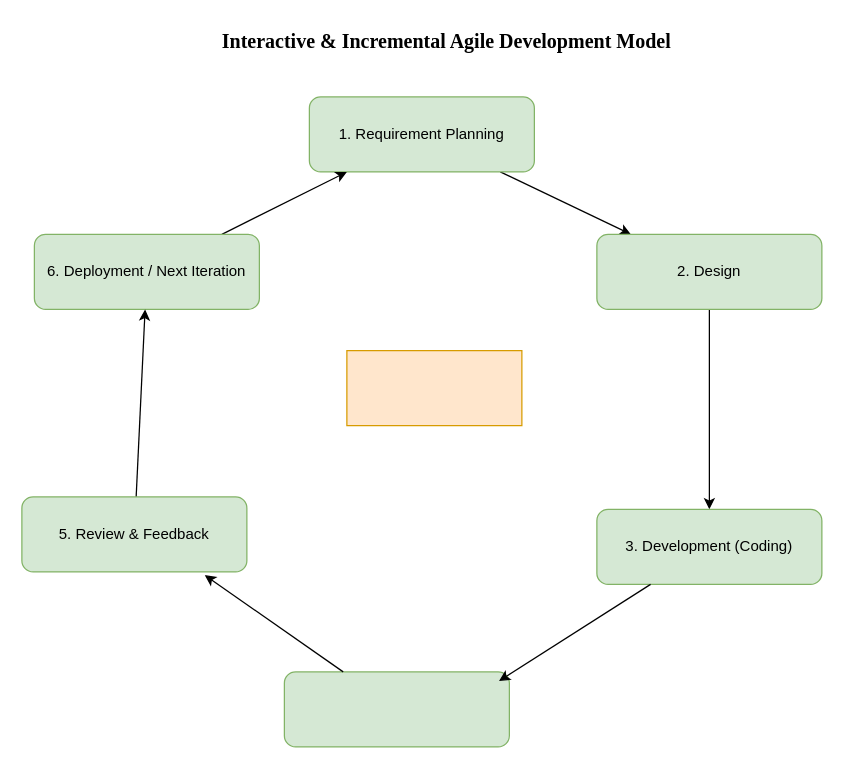
This 844x769 diagram has some shape labels left out. The shapes that lost their labels are listed below. From the top down, each one's box as (x1, y1, x2, y2) in pixels, then its label:
(346, 349, 522, 426): Iterate each feature module
(283, 671, 509, 747): 4. Testing
